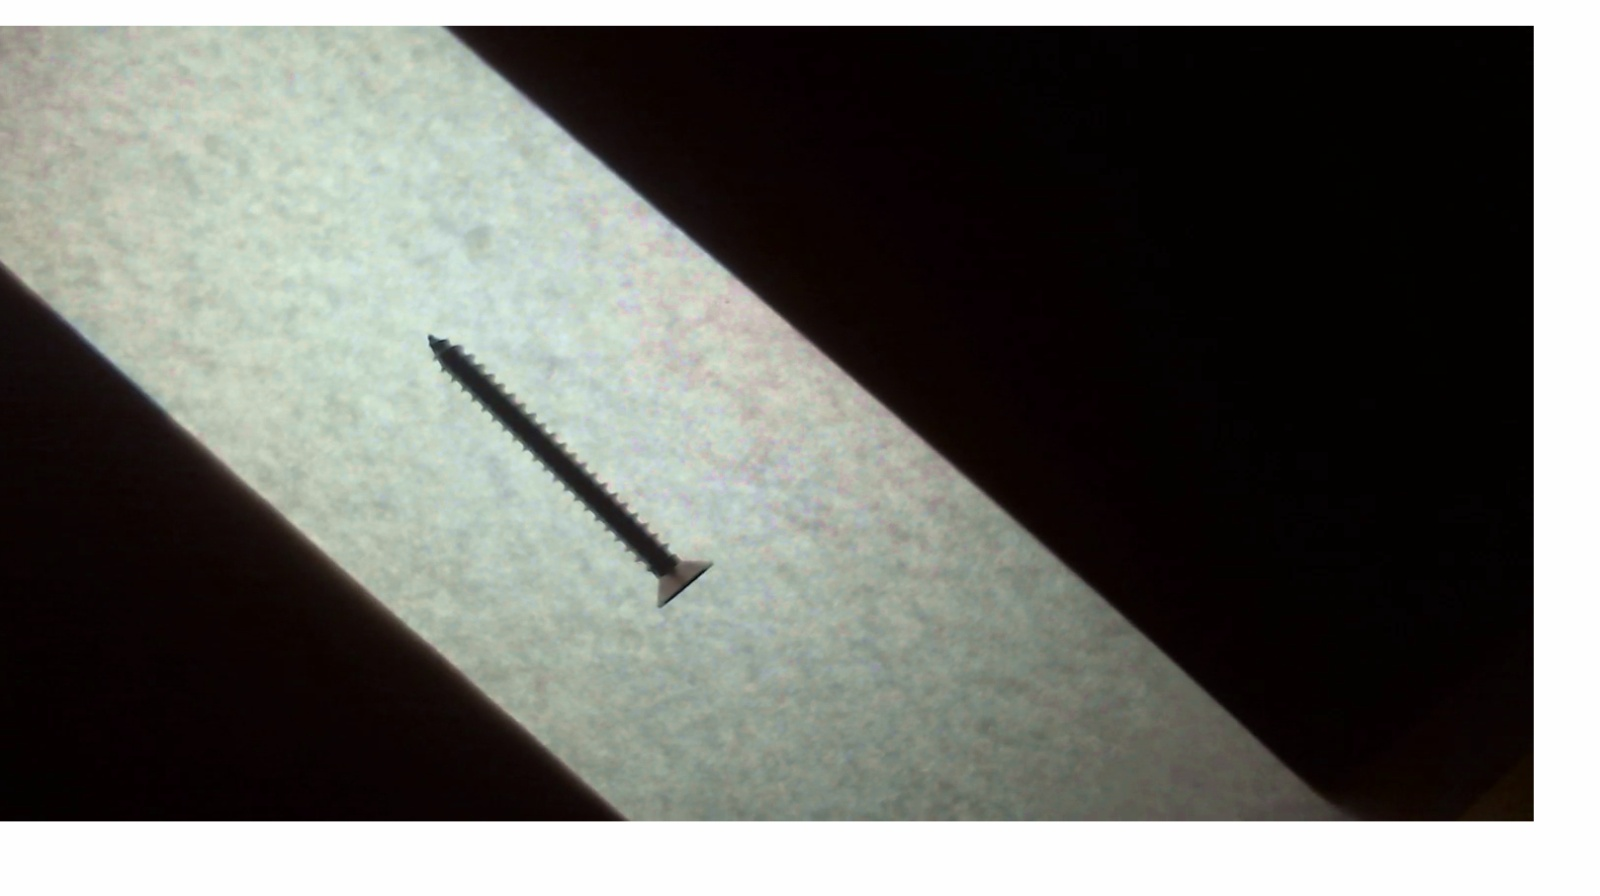S002: (418, 321, 718, 623)
